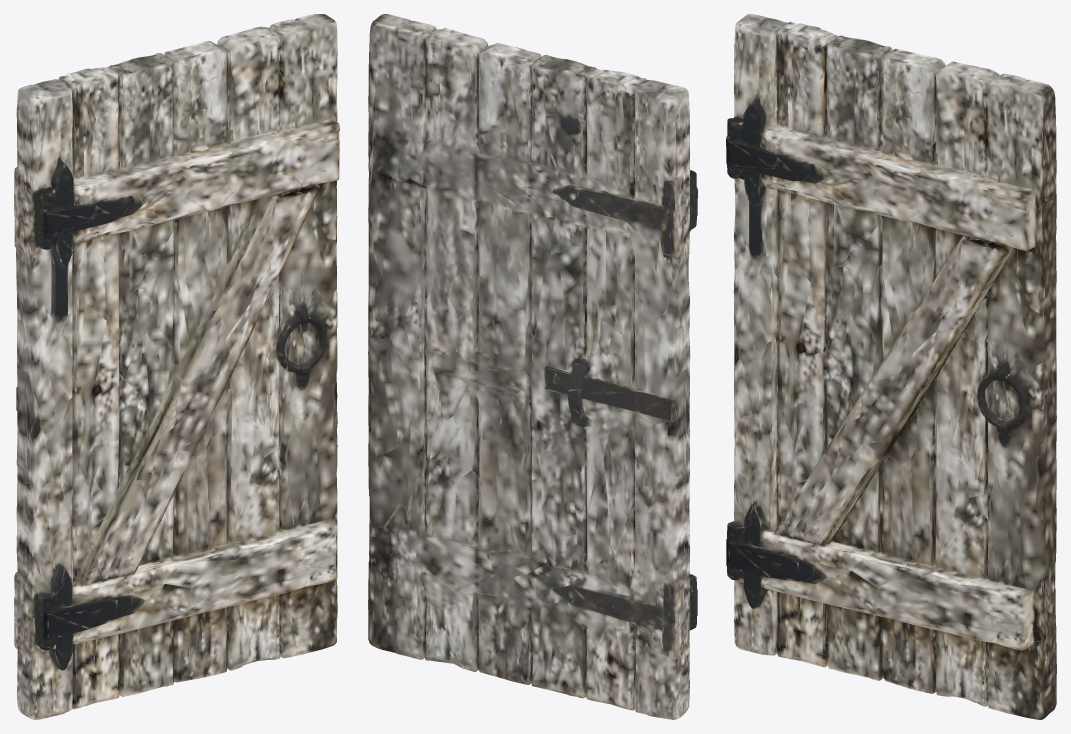
Rendered from bb_door_wood.80504a180b.glb.
3 renders of one model, left to right at view 1: azimuth 30°, elevation 25°; view 2: azimuth 150°, elevation 25°; view 3: azimuth 330°, elevation 25°, orthographic.
Visible parts, largest first — view 1: bb_door_wood; view 2: bb_door_wood; view 3: bb_door_wood.
Boxes of the visible parts, x1,y1,x2,y2 form: bb_door_wood: (14,14,339,719); bb_door_wood: (368,14,697,719); bb_door_wood: (726,14,1056,719).
Size of the model in its own units: 0.9876 by 1.9 by 0.1943.
1 material, 1 textured.
